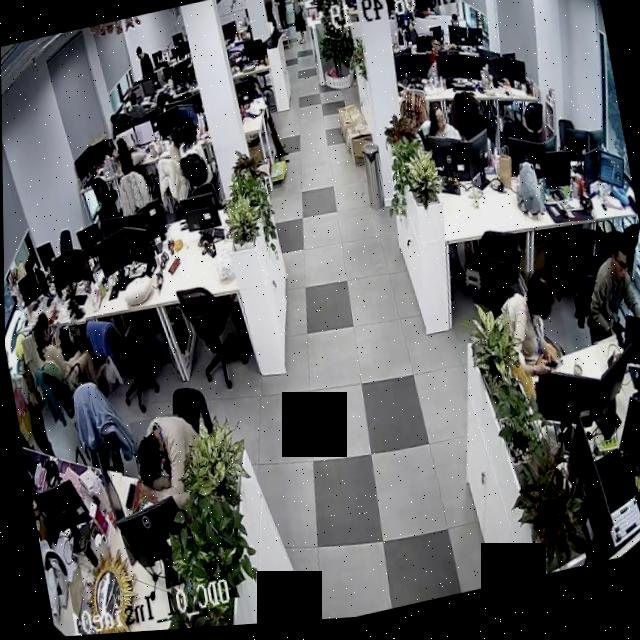person: (491, 271, 570, 389), (128, 410, 208, 505), (575, 238, 640, 354), (24, 304, 94, 393), (110, 133, 155, 219), (172, 114, 207, 179), (421, 105, 462, 156), (421, 34, 449, 84)
